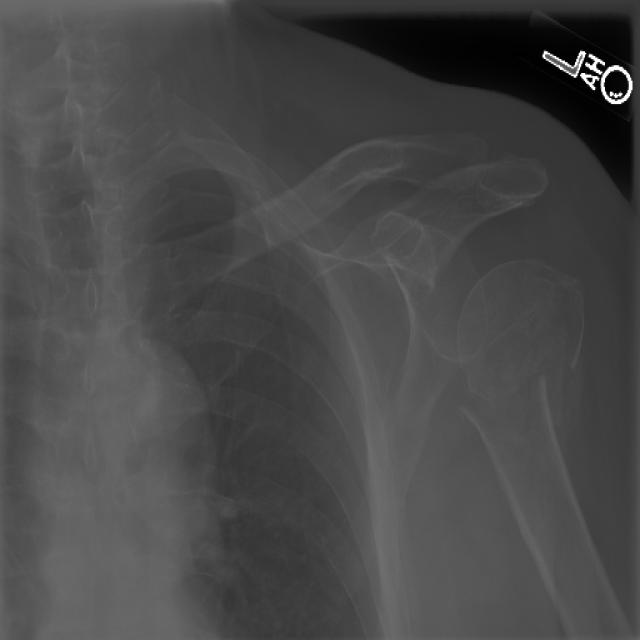shoulder fracture: (428, 316, 639, 472)
